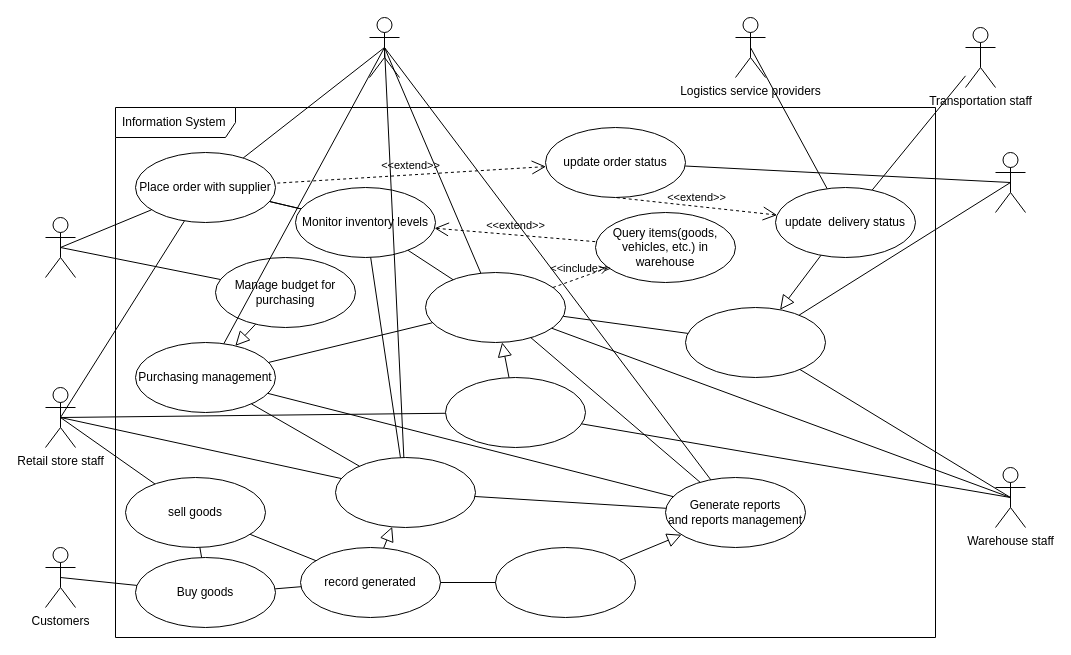
Some shapes in this 1071 by 655 pixel diagram are drawn without their labels. Each missing label, with the centre of its shape:
Coordinate deliverers to target point and unload: (515,412)
Data analysis: (565,582)
management staff: (384,47)
place delivery order: (755,342)
Point-of-sale management: (405,492)
Purchasing staff: (60,247)
Suppliers: (1010,182)
Warehouse management: (495,307)
